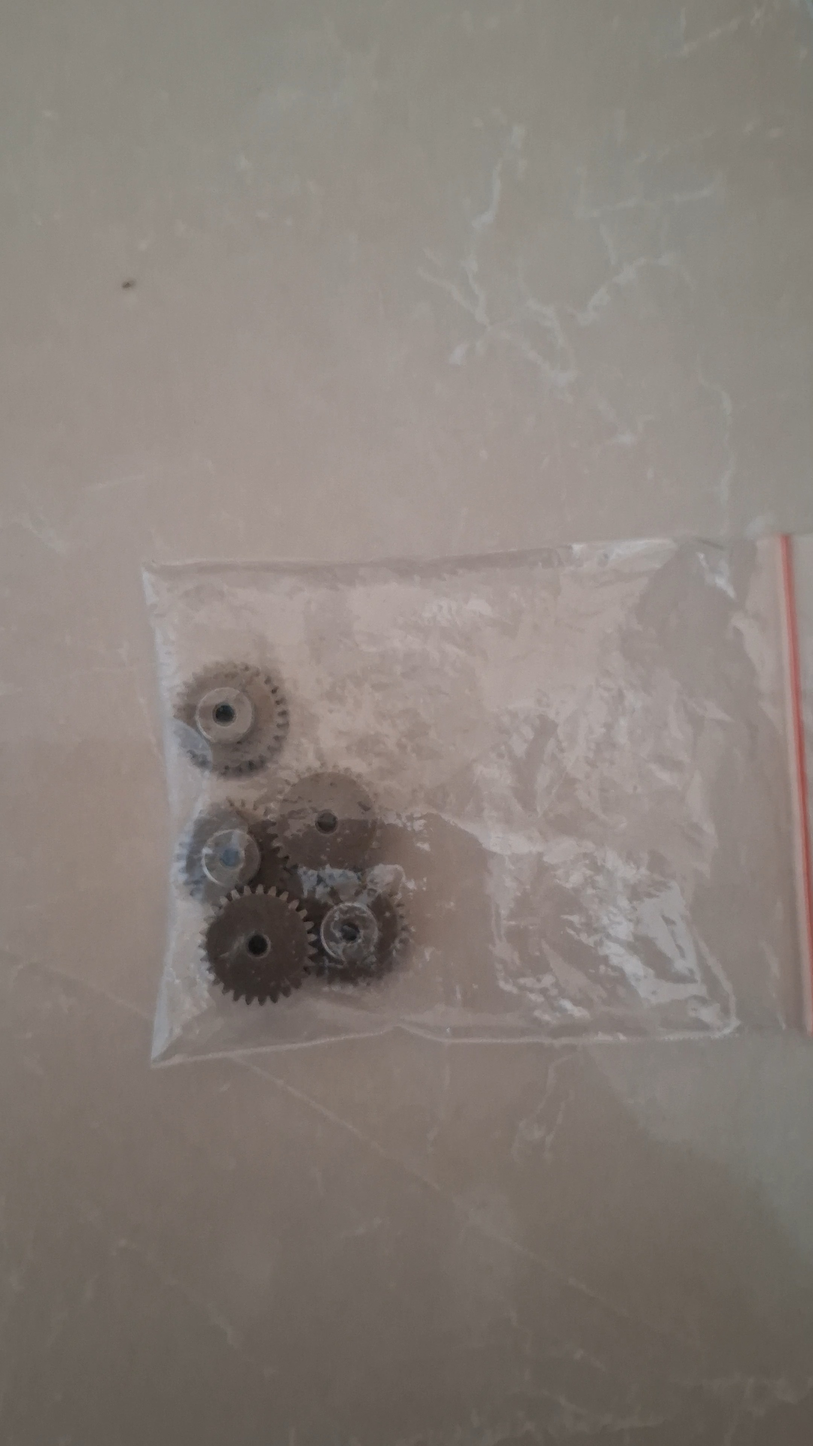spur gear: (203, 886, 314, 1003), (174, 663, 288, 776), (178, 801, 295, 903), (304, 874, 408, 981), (275, 772, 377, 870)
